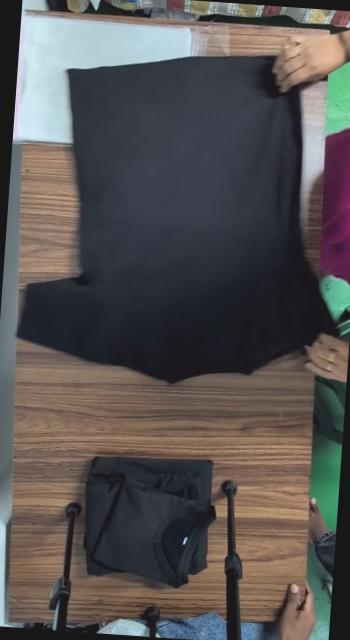new-garment: (18, 57, 332, 382)
